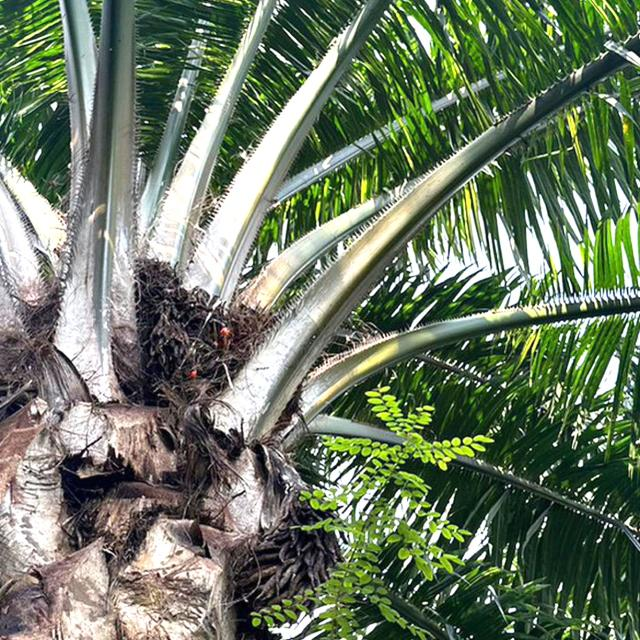ripe: (140, 260, 275, 402)
